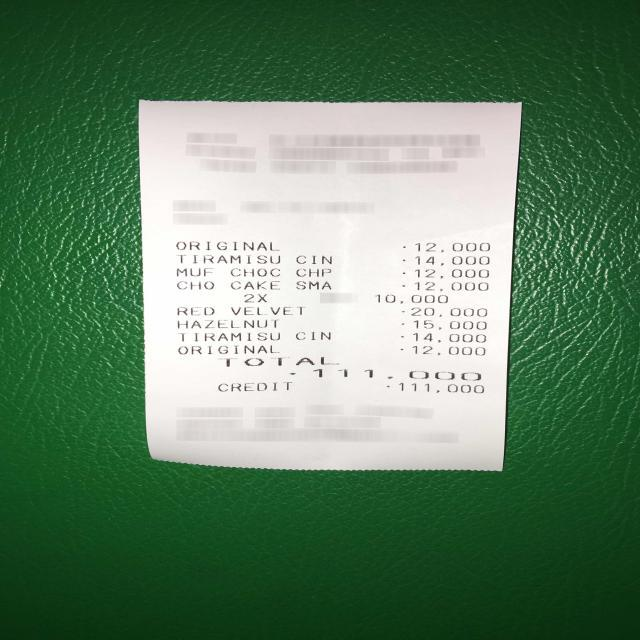kertas: (136, 101, 522, 471)
